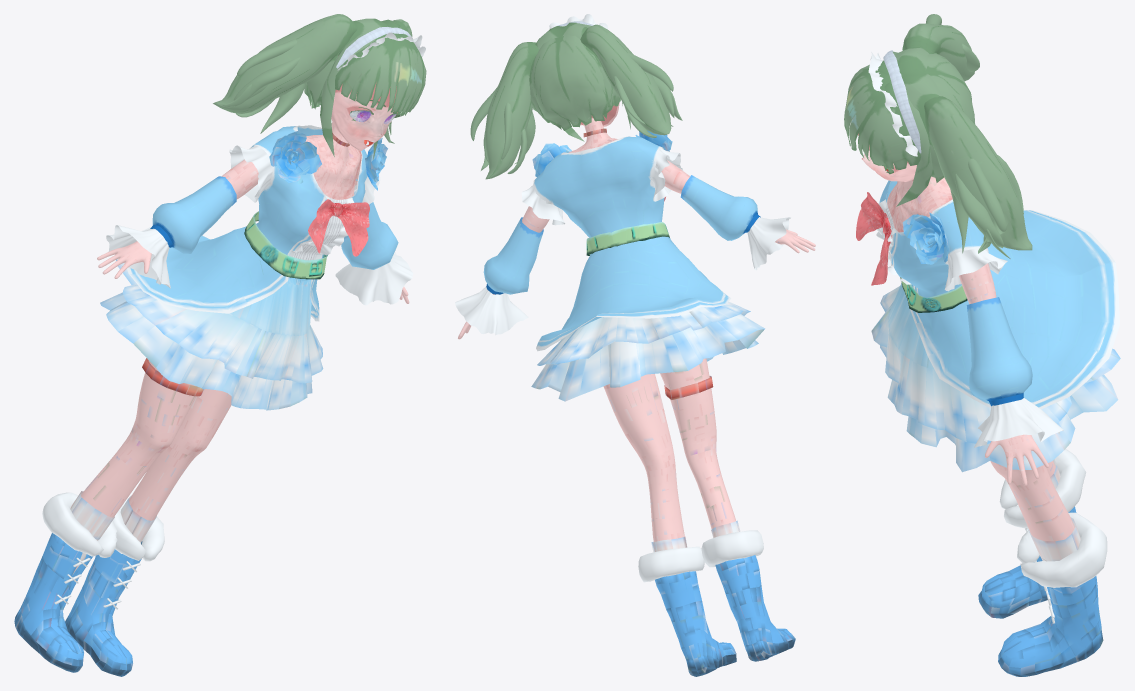
The model's file is chr2goomerged3.glb.
The picture shows the model from 3 angles, left to right: view 1: azimuth 30°, elevation 25°; view 2: azimuth 150°, elevation 25°; view 3: azimuth 270°, elevation 25°; orthographic projection. The views are drawn at different scales.
Visible parts, largest first — view 1: man-all; view 2: man-all; view 3: man-all.
Boxes of the visible parts, <box> form: man-all: <box>14,14,426,676</box>; man-all: <box>455,14,815,676</box>; man-all: <box>844,14,1120,676</box>.
Bounding box in the file's own units: 6.14 × 10.26 × 3.45.
Materials: 26 (25 with a texture image).
